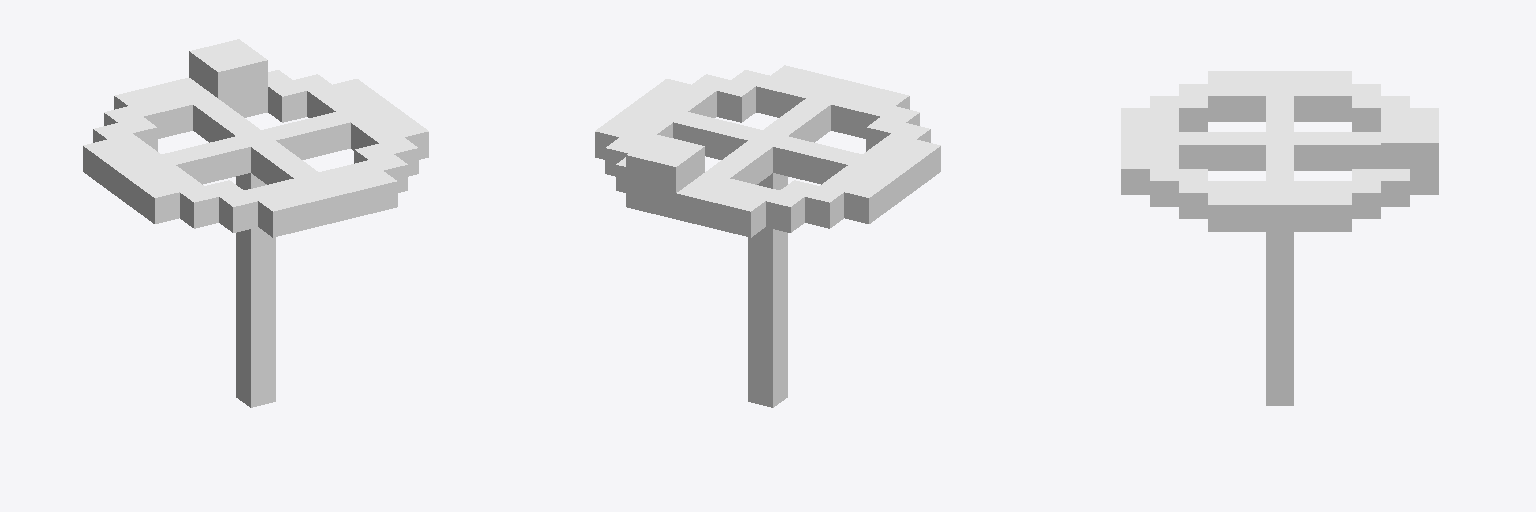
File: ratti.obj
3 renders of one model, left to right at view 1: azimuth 30°, elevation 25°; view 2: azimuth 150°, elevation 25°; view 3: azimuth 270°, elevation 25°, orthographic.
Visible parts, largest first — view 1: ratti; view 2: ratti; view 3: ratti.
Boxes of the visible parts, box(x1,y1,x2,y2) form: ratti: box(83, 39, 428, 407); ratti: box(595, 65, 940, 407); ratti: box(1121, 71, 1438, 405).
Size of the model in its own units: 11 by 11 by 11.